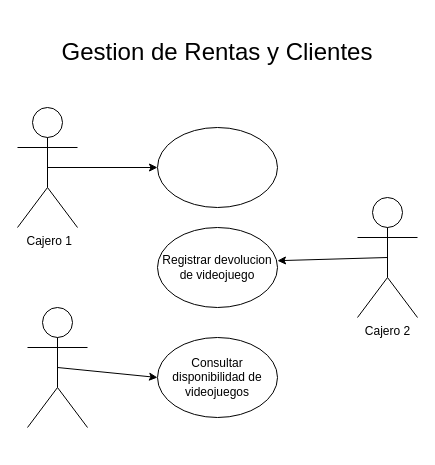
Image size: 435x465. Some labels were removed from this diagram. The shapes that lost their labels are listed below. From the top down, each one's centre as x and y in pixels, then its label:
At (217,167): "Registrar nueva renta de videojuego".
At (57,367): "Empleado 1".
